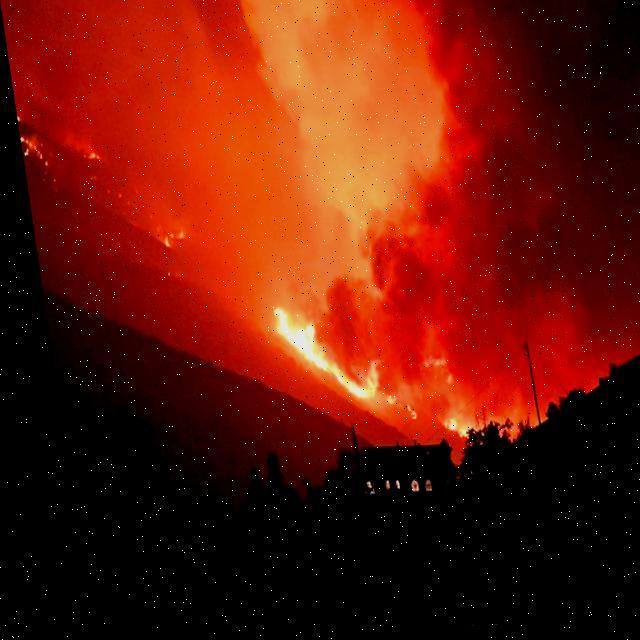Fire: (260, 304, 366, 402), (429, 407, 459, 439), (18, 134, 39, 162), (411, 356, 437, 372), (372, 391, 386, 406), (153, 233, 164, 250), (166, 228, 178, 242), (394, 406, 404, 422), (82, 150, 95, 162), (433, 374, 443, 386)
